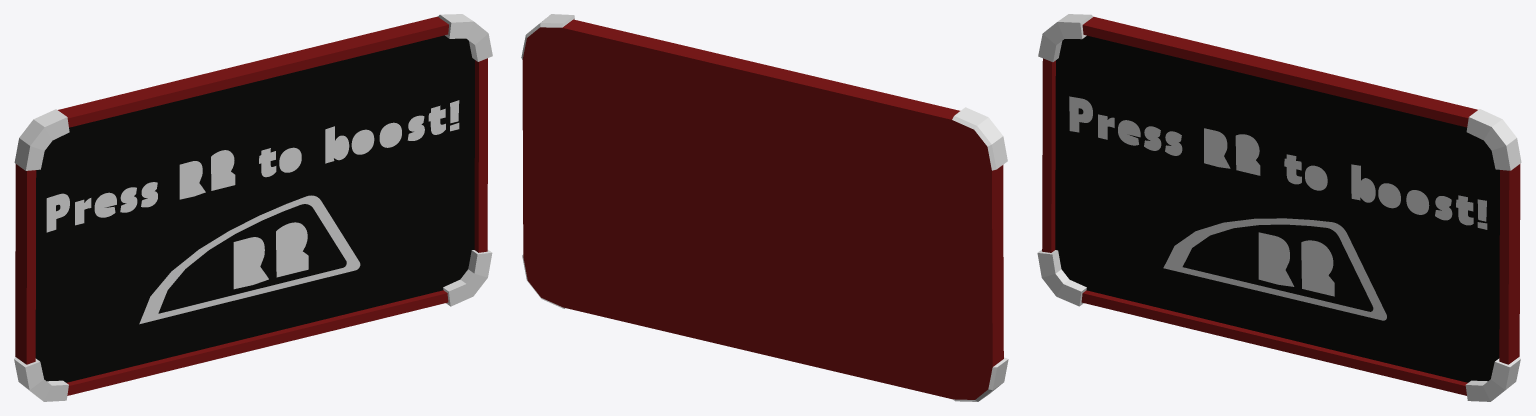
Rendered from Tuto6-PSN.FBX.
The picture shows the model from 3 angles, left to right: view 1: azimuth 30°, elevation 25°; view 2: azimuth 150°, elevation 25°; view 3: azimuth 330°, elevation 25°; orthographic projection.
Parts seen in each view (by area): view 1: Pizarra 9, Text027, Shape016, Text028; view 2: Pizarra 9; view 3: Pizarra 9, Text027, Shape016, Text028.
Part boxes in pixels (<box>): Pizarra 9: <box>14,14,492,401</box>; Text027: <box>46,100,459,232</box>; Shape016: <box>139,195,360,324</box>; Text028: <box>233,222,308,289</box>; Pizarra 9: <box>521,14,1008,401</box>; Pizarra 9: <box>1037,14,1521,401</box>; Text027: <box>1069,96,1487,229</box>; Shape016: <box>1163,218,1386,320</box>; Text028: <box>1258,232,1334,296</box>.
Bounding box in the file's own units: 77.68 × 44.99 × 4.52.
